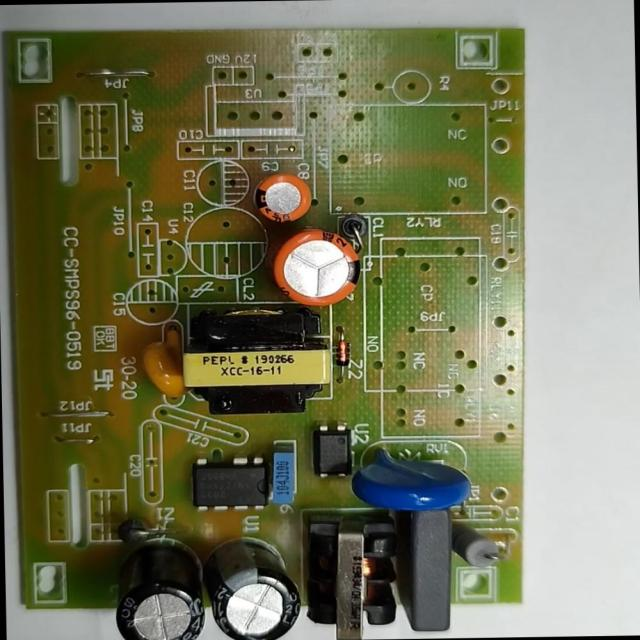Cap1: (268, 223, 367, 309)
Cap2: (252, 168, 312, 226)
Cap3: (202, 534, 307, 640)
Cap4: (110, 536, 209, 640)
MOSFET: (191, 457, 271, 510)
Mov: (350, 440, 476, 514)
Resistor: (447, 522, 499, 571)
Transformer: (179, 304, 336, 420), (306, 515, 402, 640)
